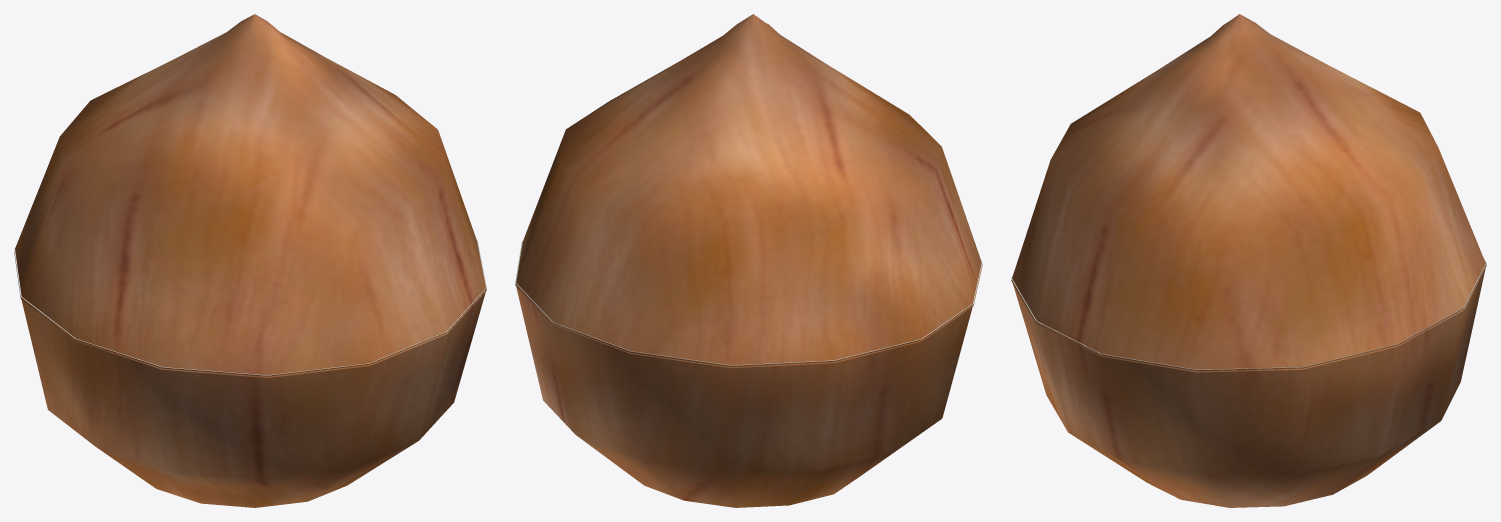
Rendered from TomatoOnion_onioncut.fbx.
The picture shows the model from 3 angles, left to right: view 1: azimuth 30°, elevation 25°; view 2: azimuth 150°, elevation 25°; view 3: azimuth 270°, elevation 25°; orthographic projection.
Visible parts, largest first — view 1: onion_top, onion_bottom; view 2: onion_top, onion_bottom; view 3: onion_top, onion_bottom.
Boxes of the visible parts, x1,y1,x2,y2 form: onion_top: (14, 14, 486, 377); onion_bottom: (14, 240, 486, 507); onion_top: (515, 14, 982, 367); onion_bottom: (515, 241, 982, 507); onion_top: (1011, 14, 1486, 372); onion_bottom: (1011, 255, 1486, 507).
Size of the model in its own units: 0.1166 by 0.125 by 0.1192.
